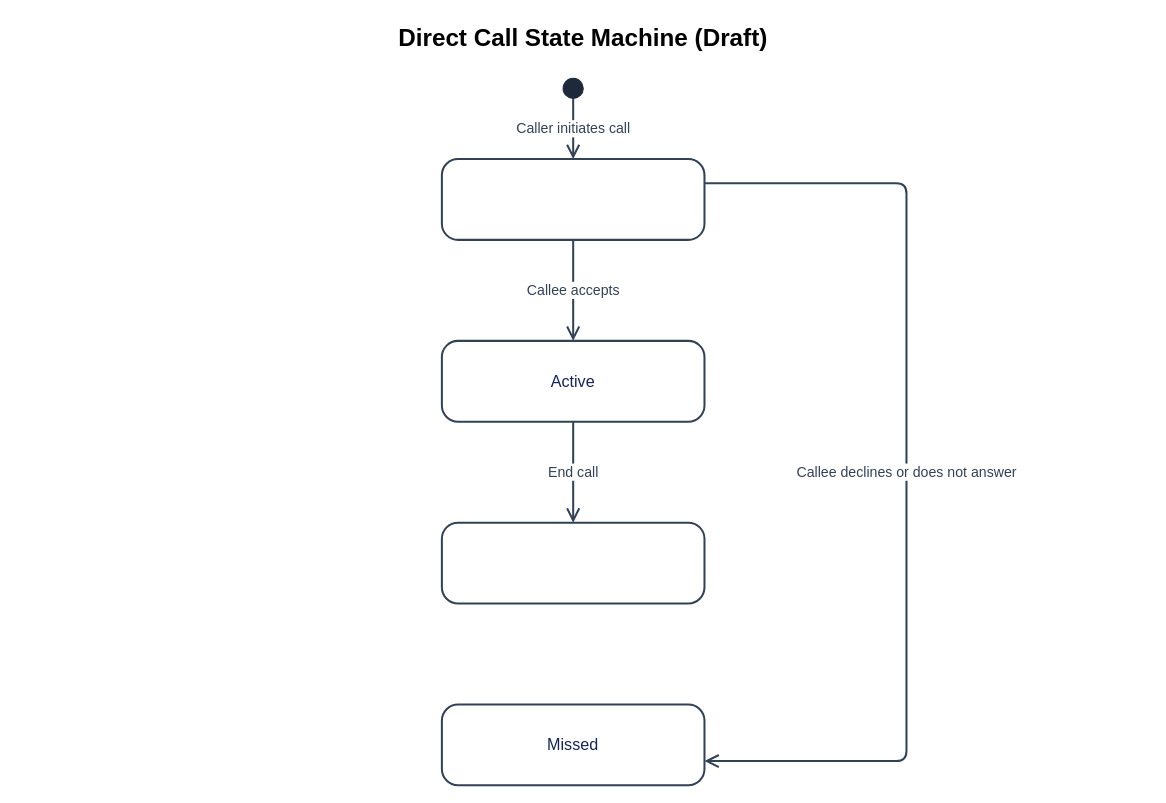
Some shapes in this 1166 by 803 pixel diagram are drawn without their labels. Each missing label, with the box of its shape:
Ended: (440, 521, 705, 604)
Ringing: (440, 158, 705, 240)
